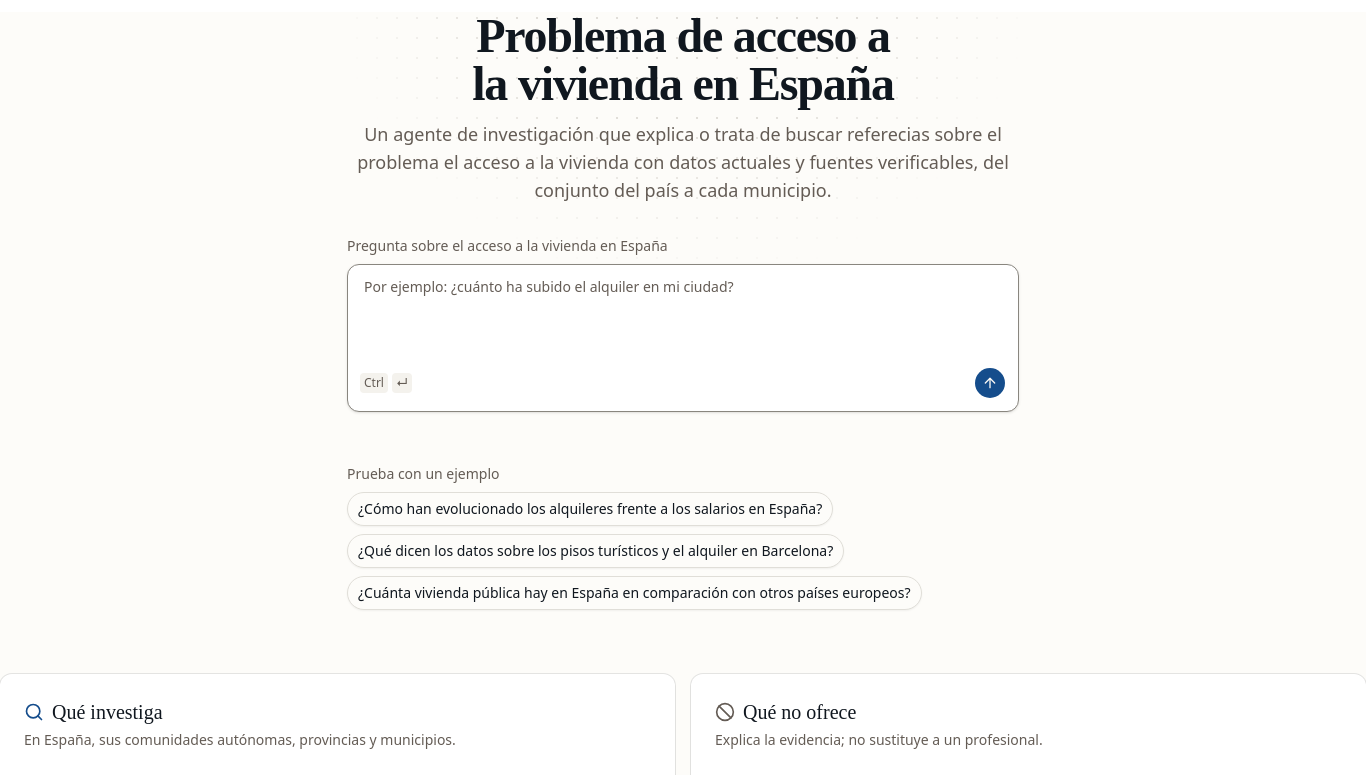
ResearchRequestForm › shows only the fixed connection message when the agent is unavailable
Type "Hola" into the text box labelled "Pregunta sobre el acceso a la vivienda en España" at (683, 313), box [348,265,1018,361]
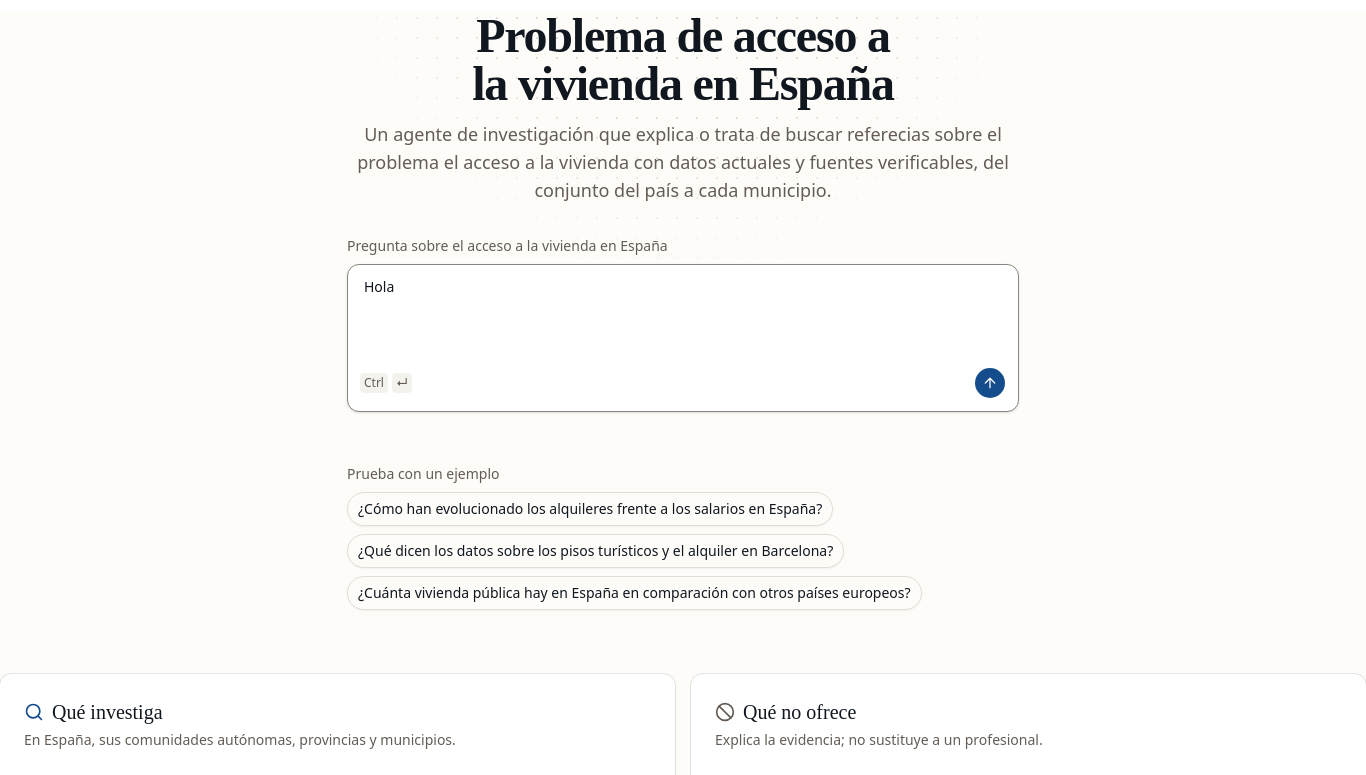
Submit the form, box [347,236,1019,440]
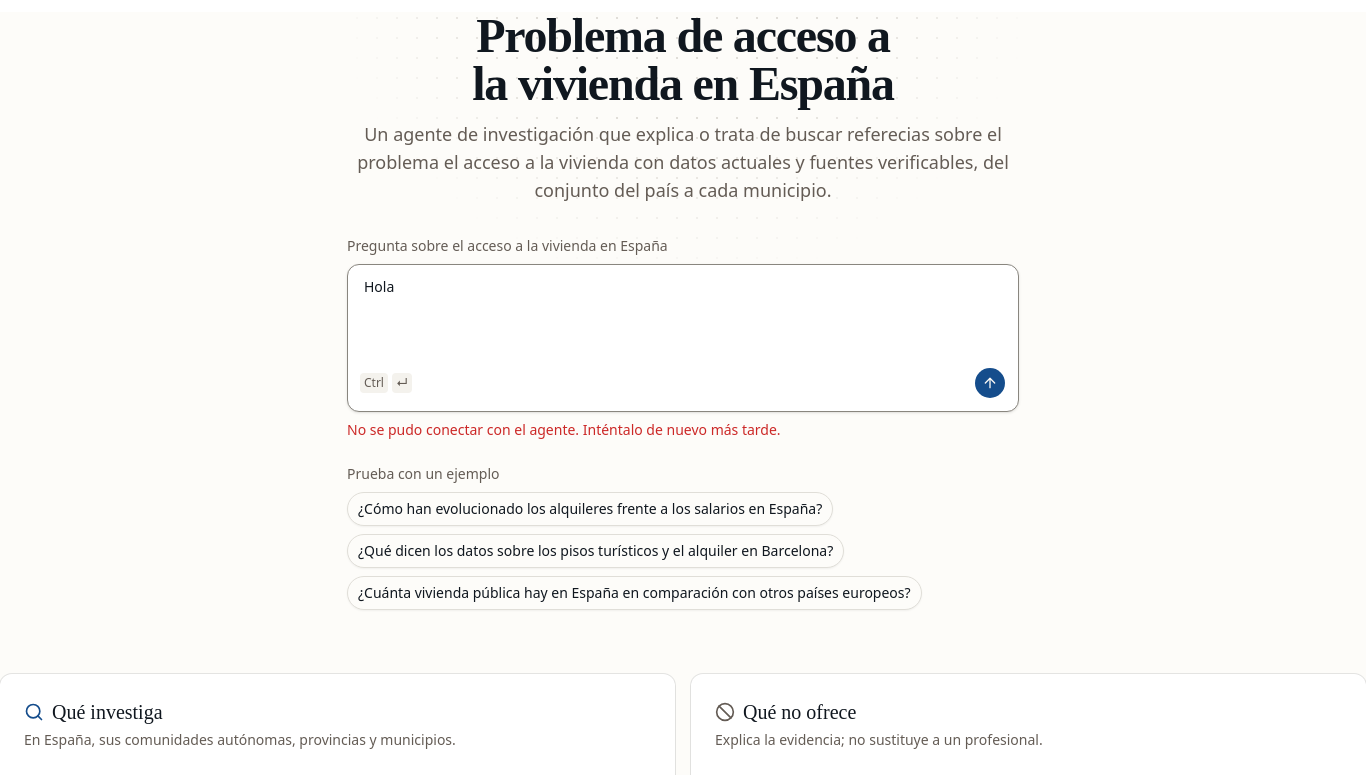
Expected: the submit button is enabled, [974,367,1006,399]
Result: the text "No se pudo conectar con el agente. Inténtalo de nuevo más tarde." is shown at [347,420,781,439]
